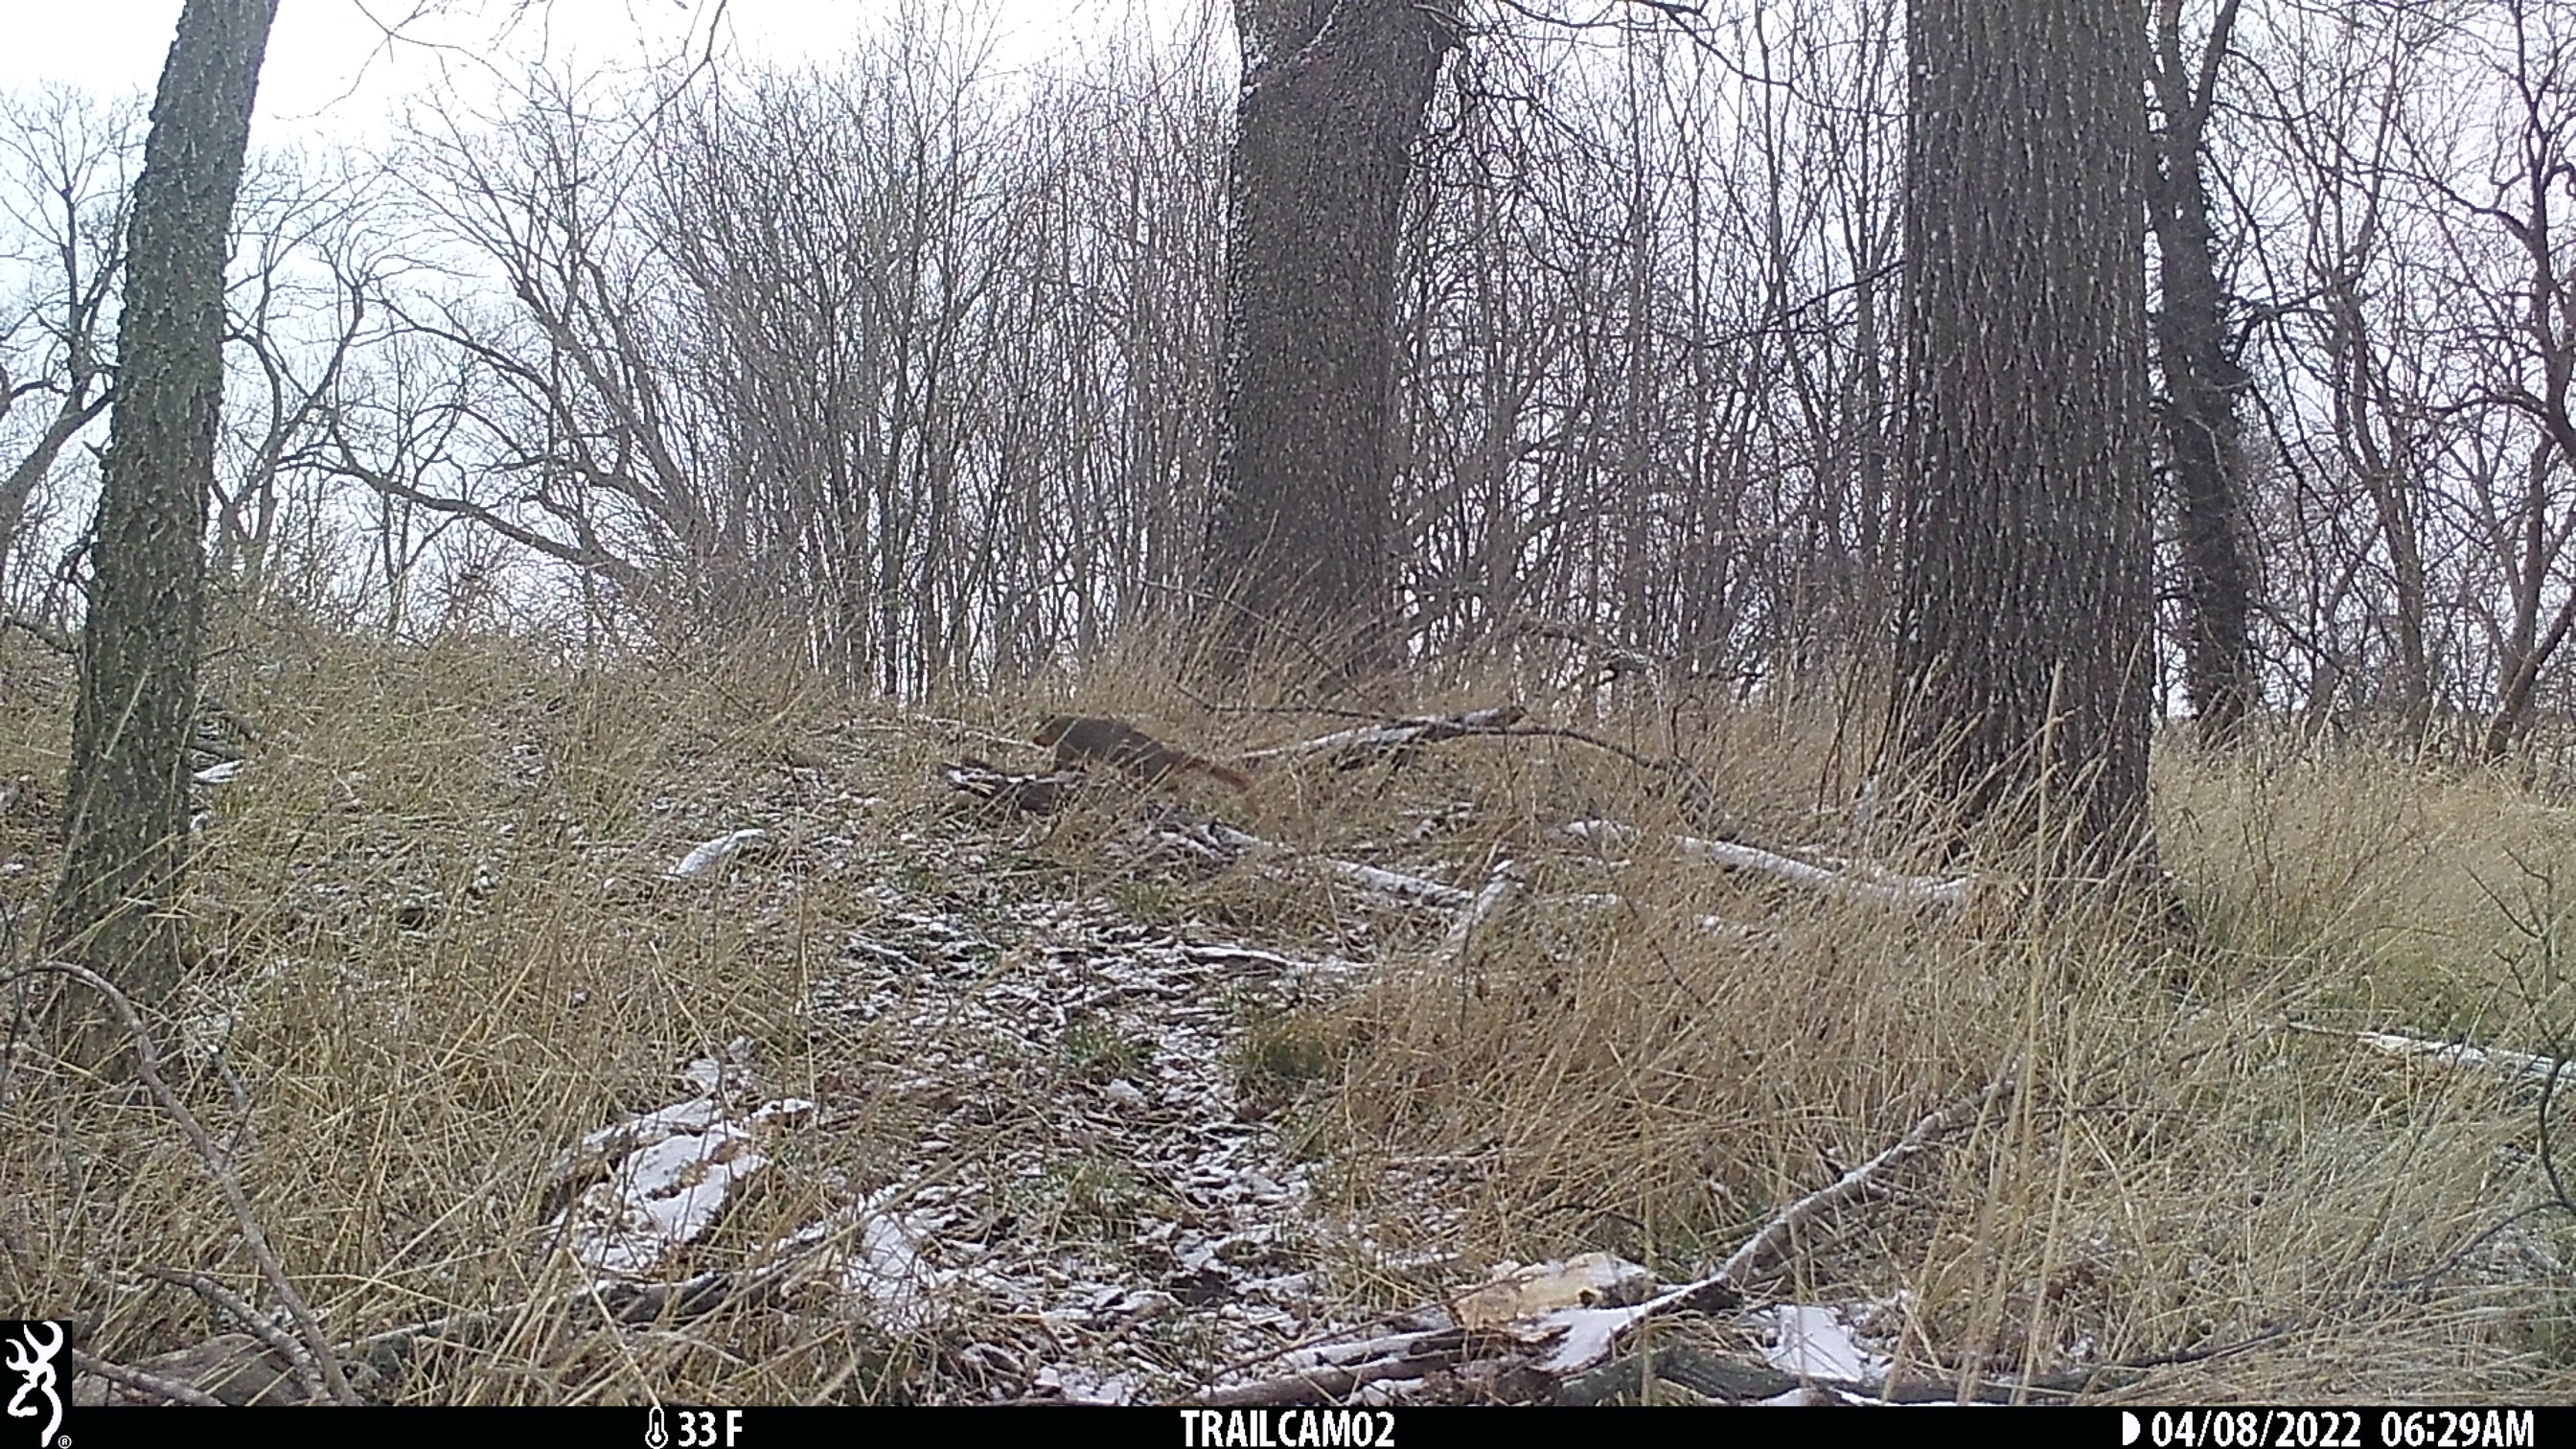Squirrel: (1031, 709, 1258, 801)
